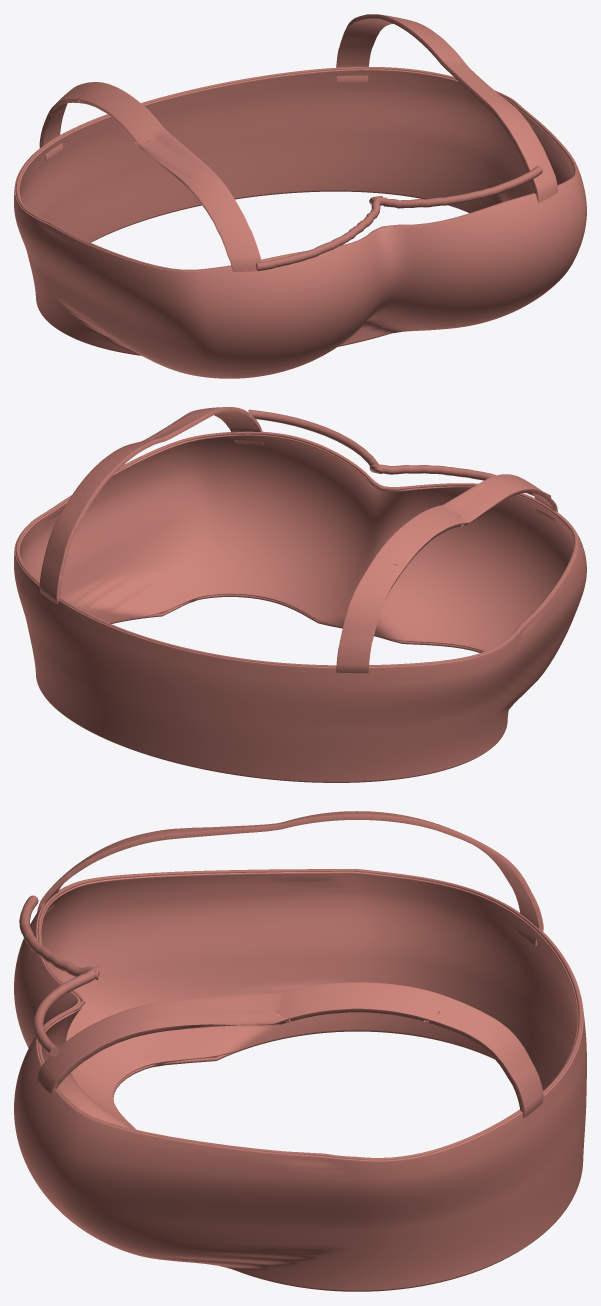
The model's file is Feminine-strappy-top.glb.
3 views of the same model, one above another, from view 1: azimuth 30°, elevation 25°; view 2: azimuth 150°, elevation 25°; view 3: azimuth 270°, elevation 25° (orthographic). The views are drawn at different scales.
Visible parts, largest first — view 1: Clothing / strappy body, Clothing / strappy strap -1, Clothing / strappy strap 1, strappy body / bound edge.001 export, Crop / seated diagonal strap export, strappy body / bound edge export; view 2: Clothing / strappy body, Clothing / strappy strap -1, Clothing / strappy strap 1, strappy body / bound edge.001 export, Crop / seated diagonal strap export, strappy body / bound edge export; view 3: Clothing / strappy body, Clothing / strappy strap 1, Clothing / strappy strap -1, strappy body / bound edge.001 export, Crop / seated diagonal strap export, strappy body / bound edge export.
Boxes of the visible parts, x1,y1,x2,y2 form: Clothing / strappy body: (14,69,586,378); Clothing / strappy strap -1: (39,82,263,271); Clothing / strappy strap 1: (336,14,557,203); strappy body / bound edge.001 export: (15,67,577,270); Crop / seated diagonal strap export: (256,166,542,271); strappy body / bound edge export: (66,191,469,355); Clothing / strappy body: (14,431,586,782); Clothing / strappy strap -1: (336,474,557,673); Clothing / strappy strap 1: (39,407,263,604); strappy body / bound edge.001 export: (15,431,577,667); Crop / seated diagonal strap export: (248,409,551,497); strappy body / bound edge export: (86,594,482,782); Clothing / strappy body: (14,871,586,1290); Clothing / strappy strap 1: (37,982,543,1118); Clothing / strappy strap -1: (37,811,543,946); strappy body / bound edge.001 export: (37,868,582,1160); Crop / seated diagonal strap export: (19,895,99,1056); strappy body / bound edge export: (113,1030,517,1291).
Bounding box in the file's own units: 0.6458 × 0.2731 × 0.5373.
